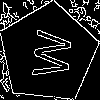W: (23, 28, 72, 80)
